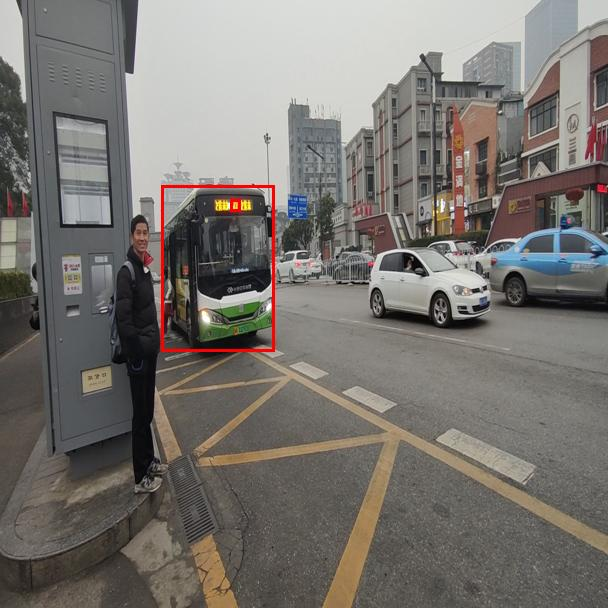bus: (161, 185, 274, 351)
screen: (230, 199, 240, 211)
